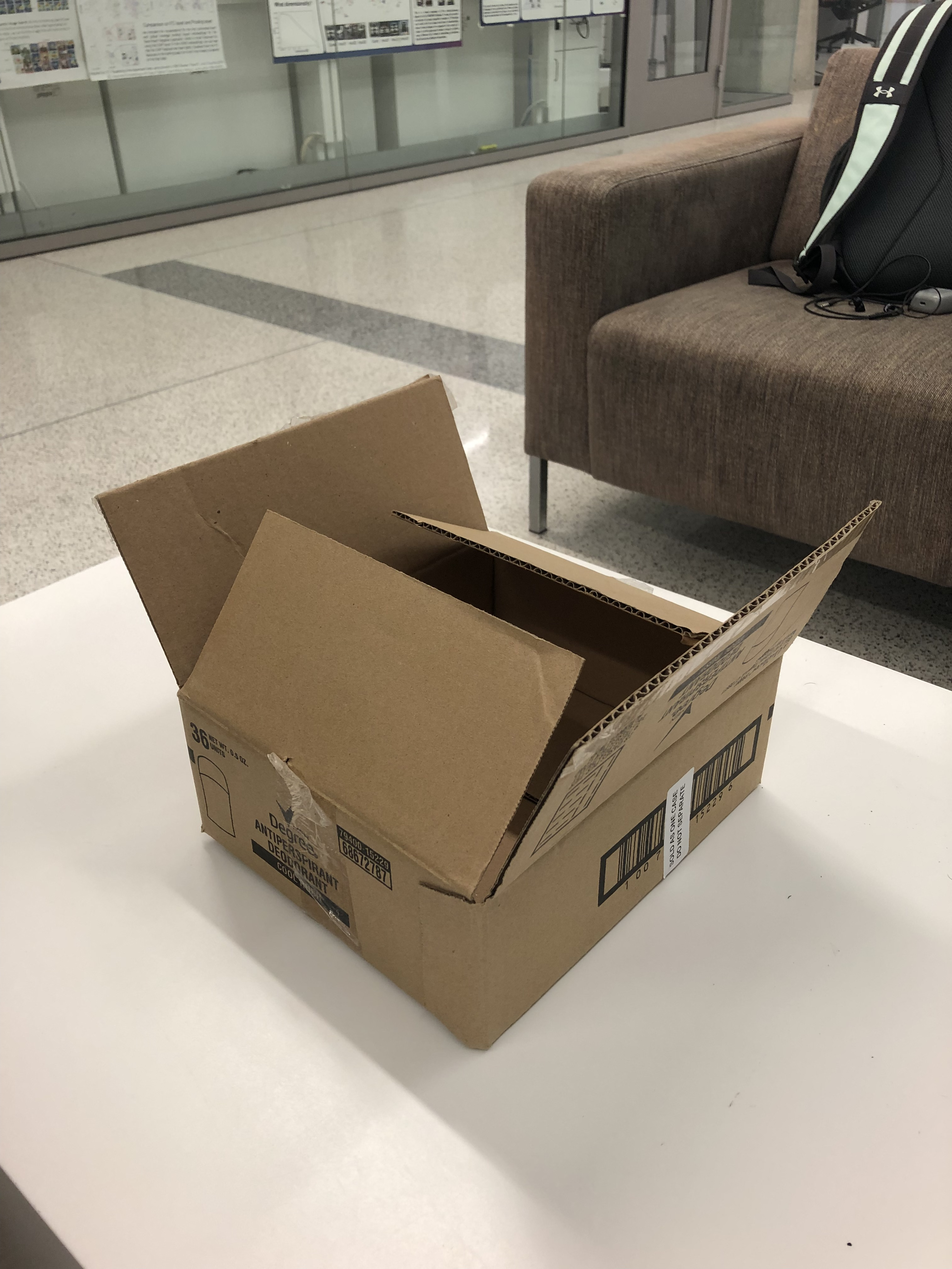box: (101, 365, 881, 1059)
crushed: (104, 360, 886, 899)
